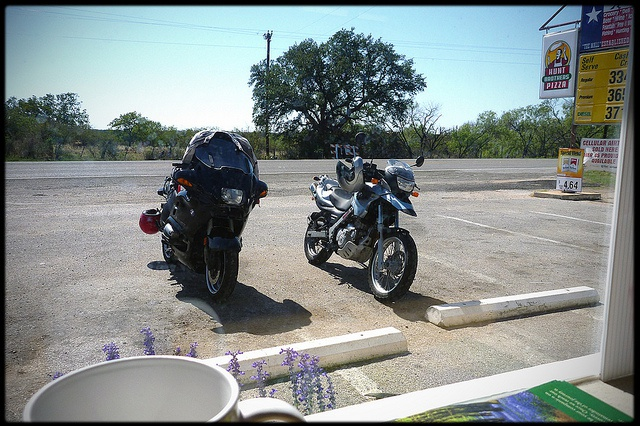non-vehicle: (156, 132, 268, 302), (304, 157, 418, 297)
